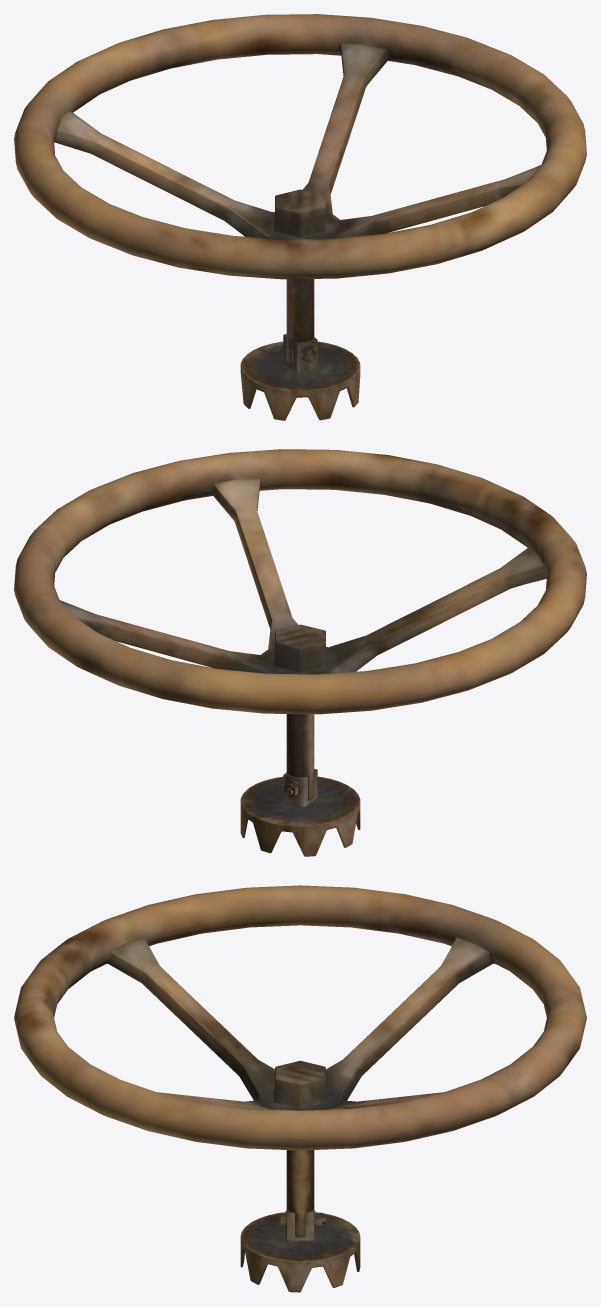
The model's file is valve-handwheel.glb.
3 views of the same model, one above another, from view 1: azimuth 30°, elevation 25°; view 2: azimuth 150°, elevation 25°; view 3: azimuth 270°, elevation 25° (orthographic).
Parts seen in each view (by area): view 1: valve-handwheel; view 2: valve-handwheel; view 3: valve-handwheel.
Part boxes in pixels (<box>): valve-handwheel: <box>14,14,586,420</box>; valve-handwheel: <box>14,449,586,856</box>; valve-handwheel: <box>14,885,586,1292</box>.
Size of the model in its own units: 0.5458 by 0.2812 by 0.5458.
1 material, 1 textured.
